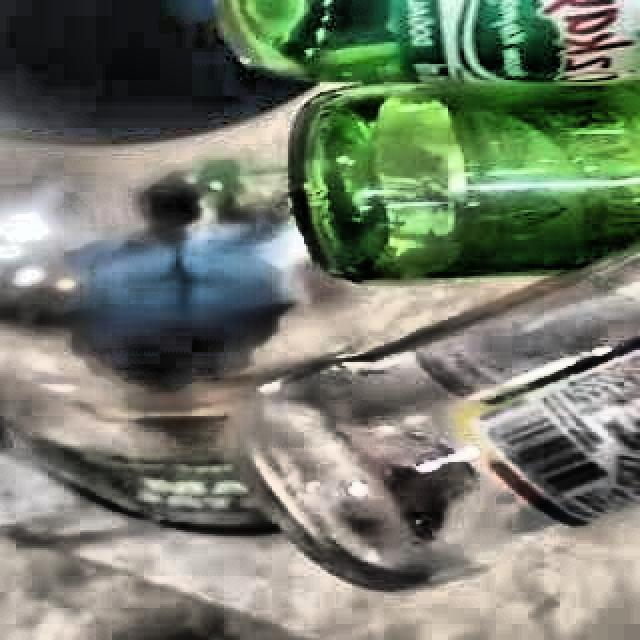glass: (217, 0, 640, 591)
